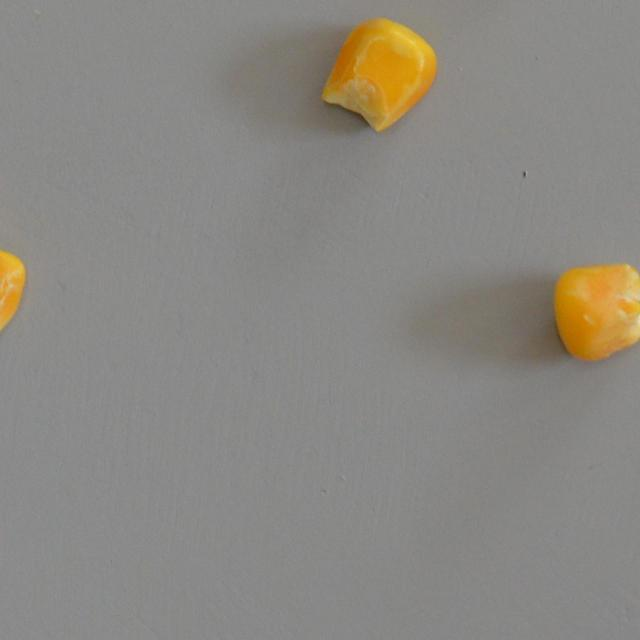no_desgerminado: (319, 16, 438, 133), (0, 237, 28, 343)
pelicula: (548, 258, 640, 364)
